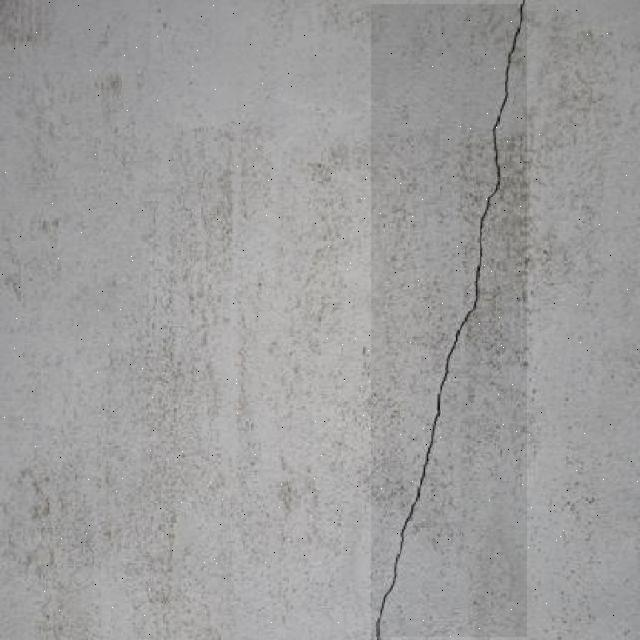crack: (368, 0, 528, 639), (237, 20, 376, 636), (529, 7, 640, 635), (132, 111, 252, 640), (1, 34, 99, 634)
